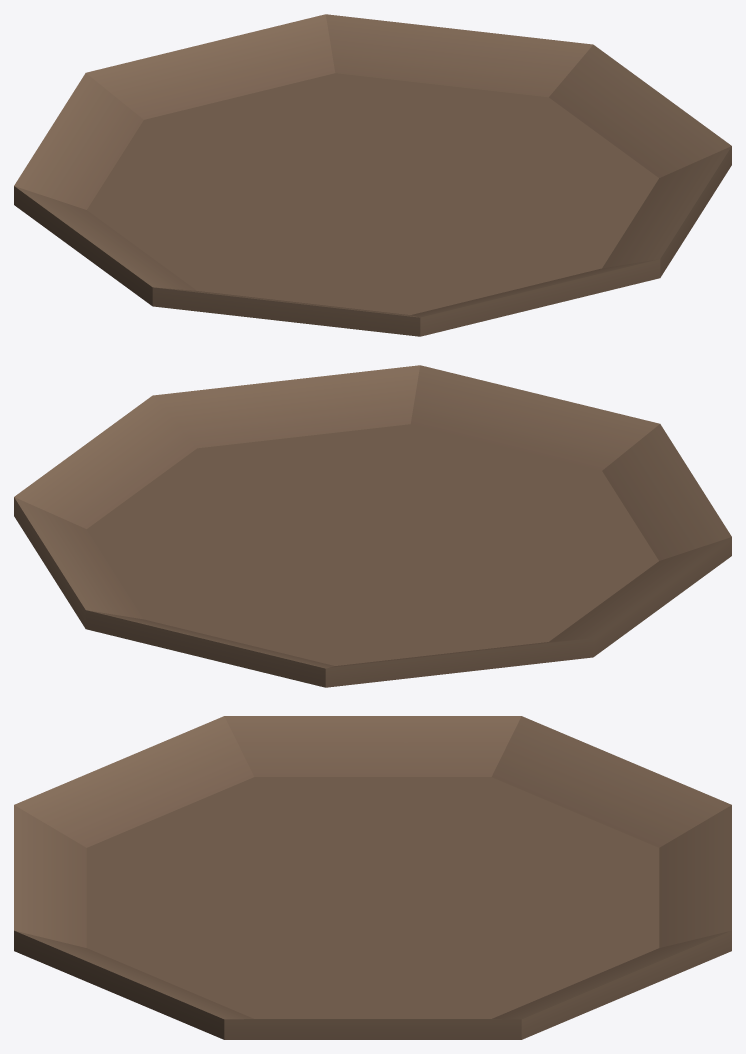
The model's file is Plate3_C5.fbx.
3 views of the same model, one above another, from view 1: azimuth 30°, elevation 25°; view 2: azimuth 150°, elevation 25°; view 3: azimuth 270°, elevation 25° (orthographic). The views are drawn at different scales.
Parts seen in each view (by area): view 1: Plate3_C5; view 2: Plate3_C5; view 3: Plate3_C5.
Boxes of the visible parts, x1,y1,x2,y2 form: Plate3_C5: (14, 14, 731, 336); Plate3_C5: (14, 365, 731, 687); Plate3_C5: (14, 716, 731, 1039).
Bounding box in the file's own units: 24.17 × 1.89 × 24.17.
